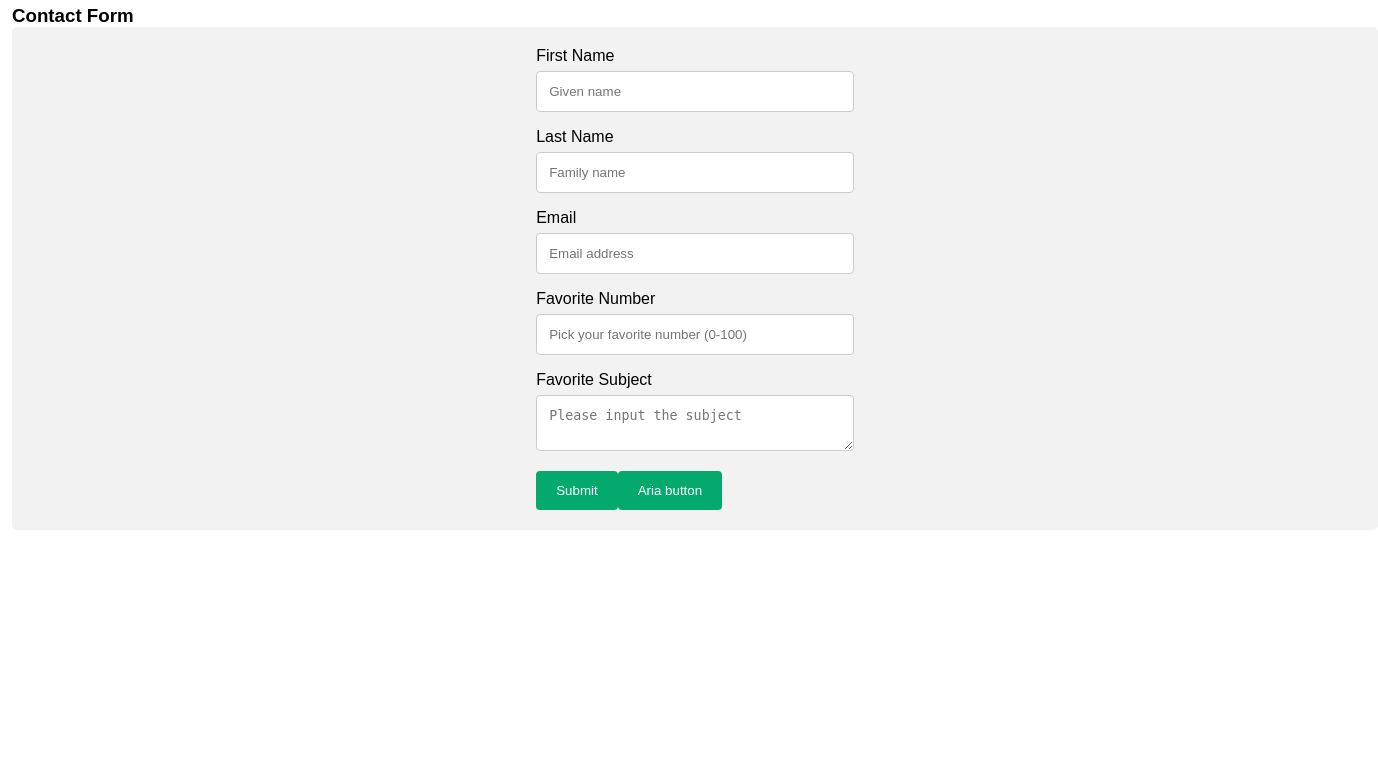
Form Filling Command › should type with invalid inputs
This screenshot has width=1378, height=768.
Type "Chris" into the field with test id "first-name".
click(695, 92); type("Chris")  # box x1=536 y1=71 x2=854 y2=112
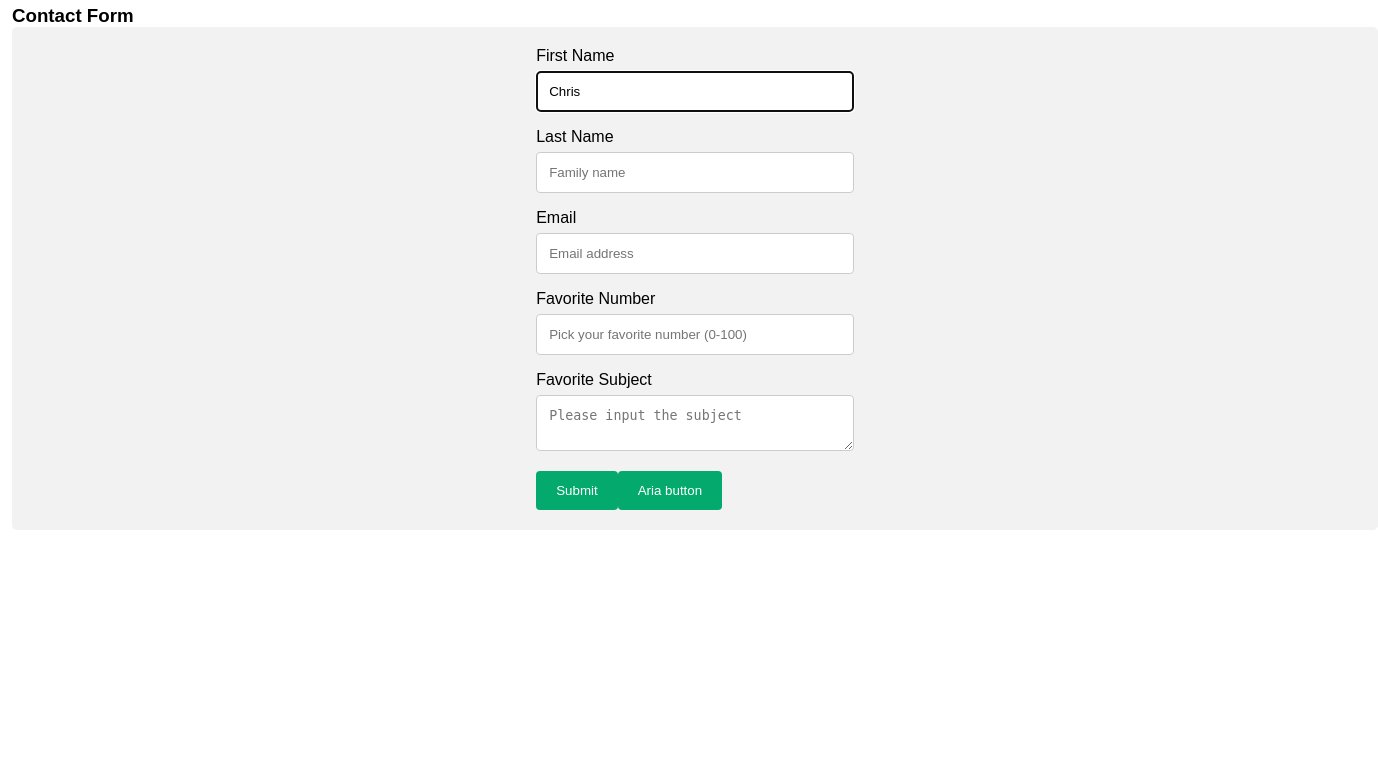
Type "Castillo" into the field with test id "last-name".
click(695, 173); type("Castillo")  # box x1=536 y1=152 x2=854 y2=193
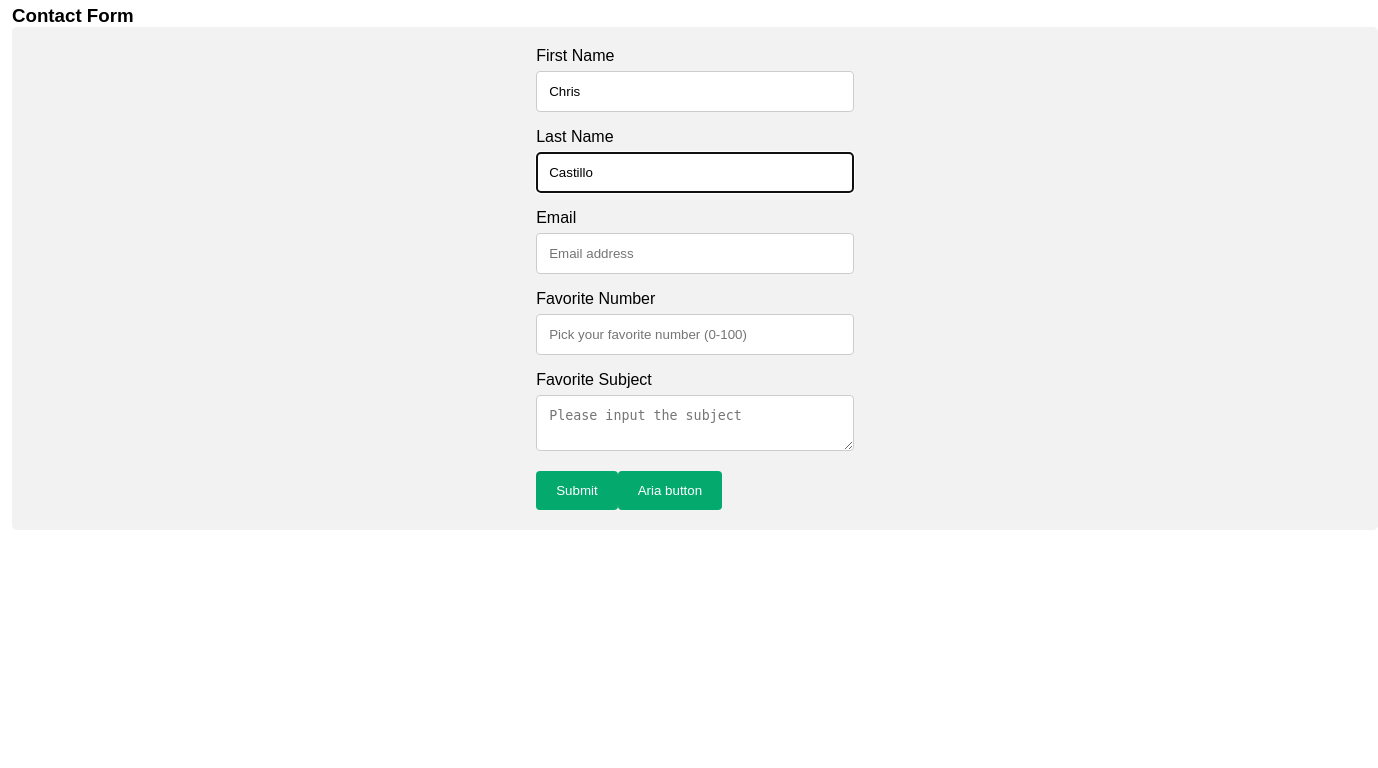
Type "gmail" into the field with test id "email".
click(695, 254); type("gmail")  # box x1=536 y1=233 x2=854 y2=274
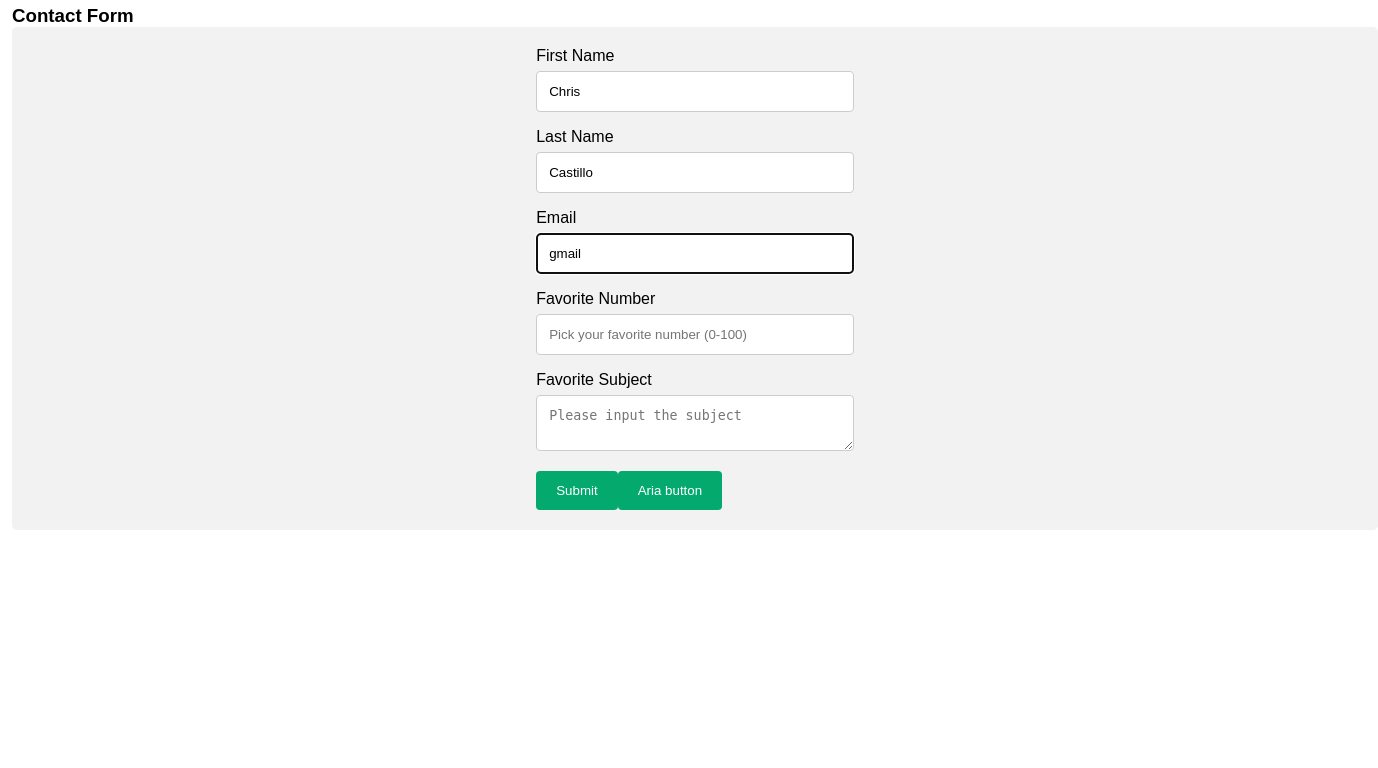
Type "asdf" into the number field with test id "number".
click(695, 335); type("asdf")  # box x1=536 y1=314 x2=854 y2=355
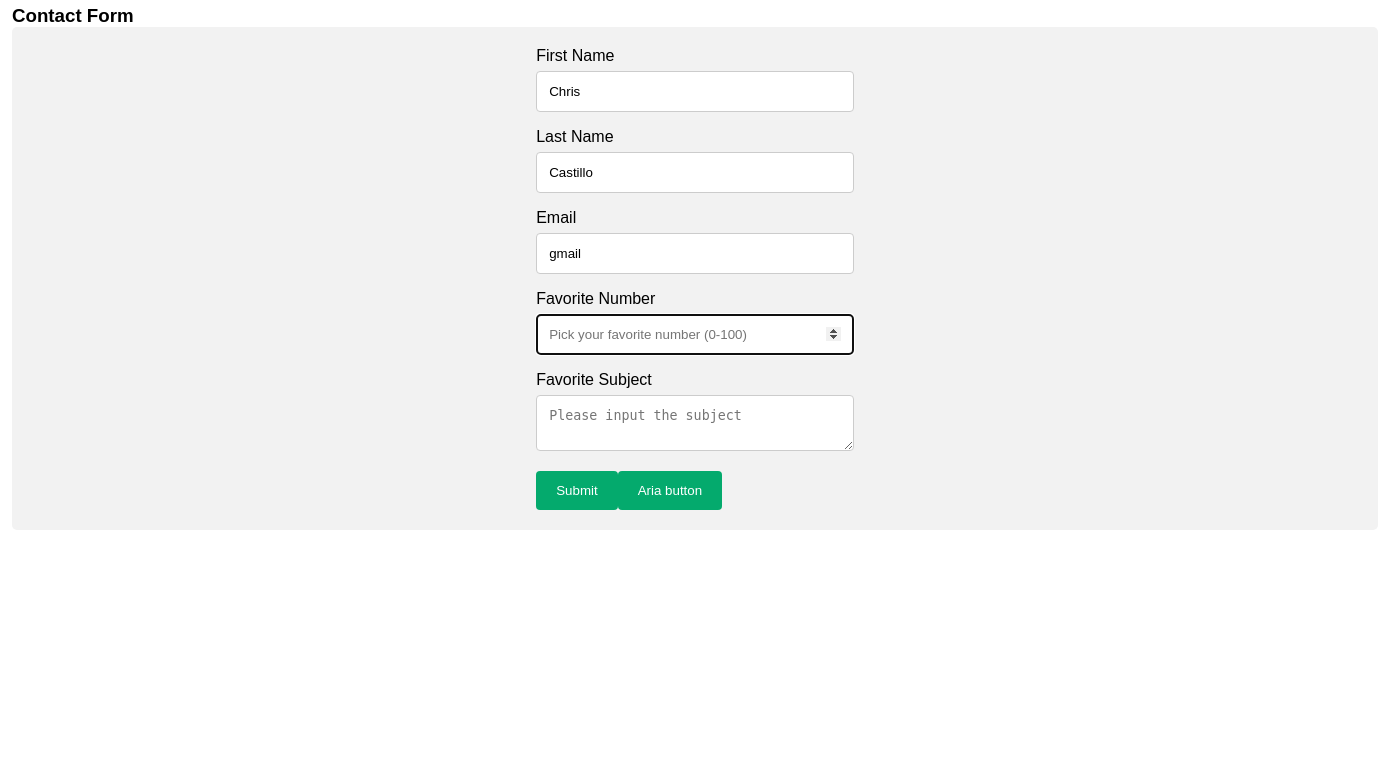
Type "I think cherries are an underrated fruit." into the text box with test id "subject".
click(695, 423); type("I think cherries are an underrated fruit.")  # box x1=536 y1=395 x2=854 y2=451
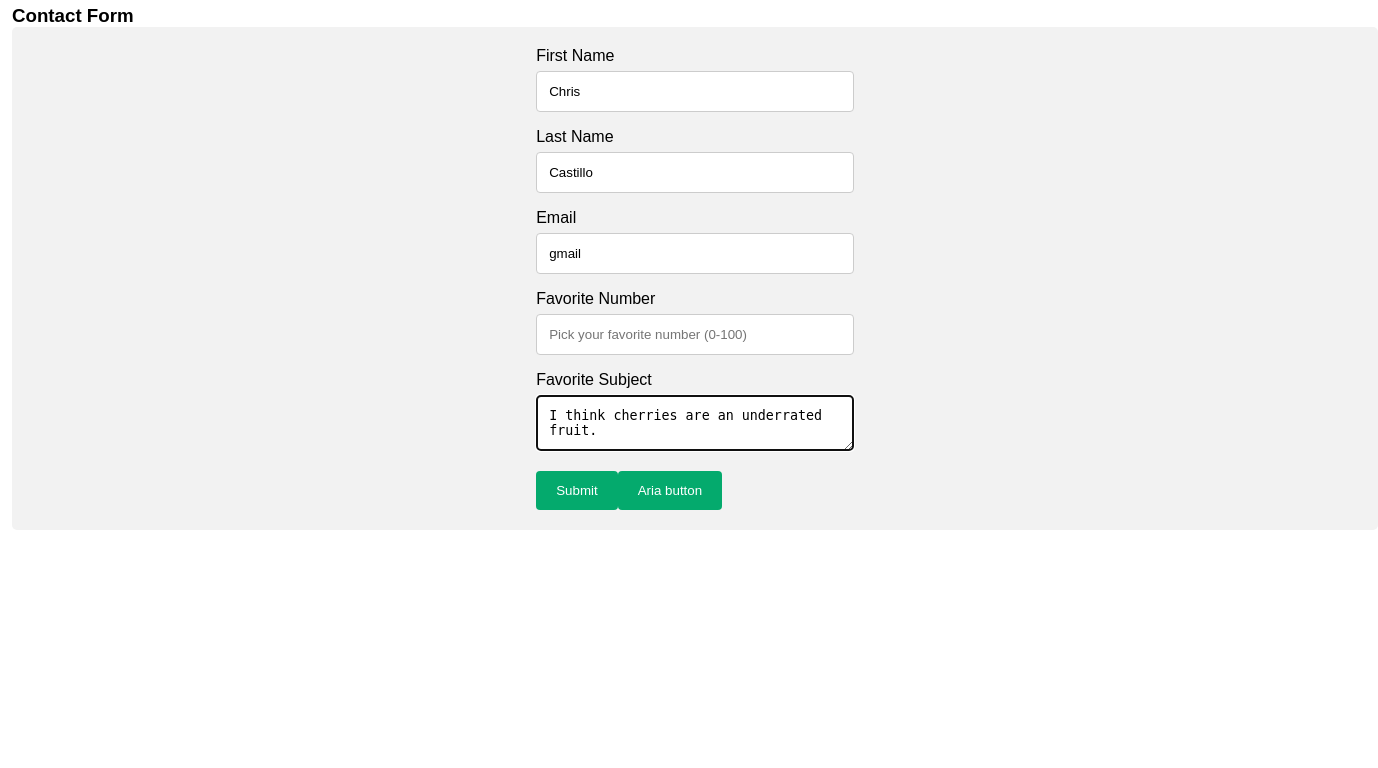
Click the button with test id "submit".
click(577, 491)  # box x1=536 y1=471 x2=618 y2=510
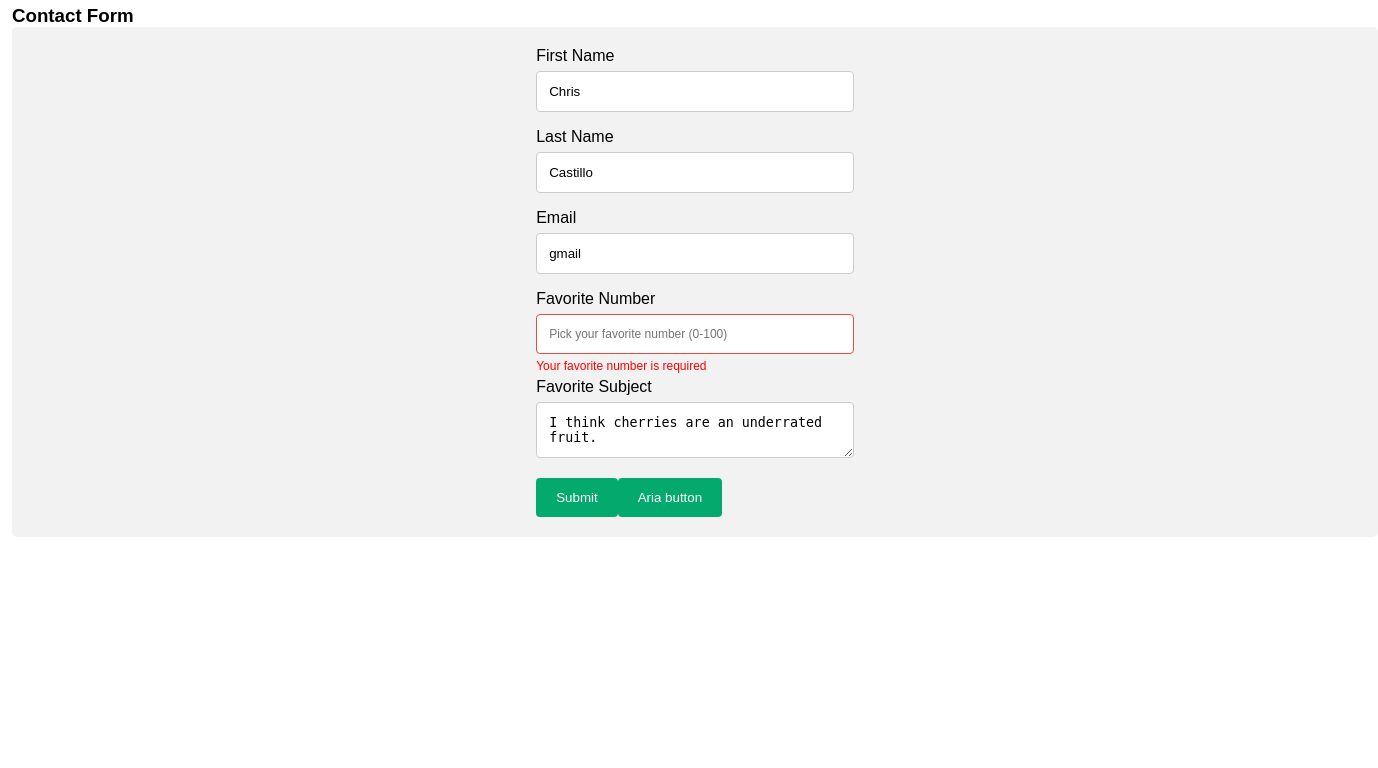
Expected: the text "Your favorite number is required" is shown, x1=536 y1=359 x2=706 y2=373
